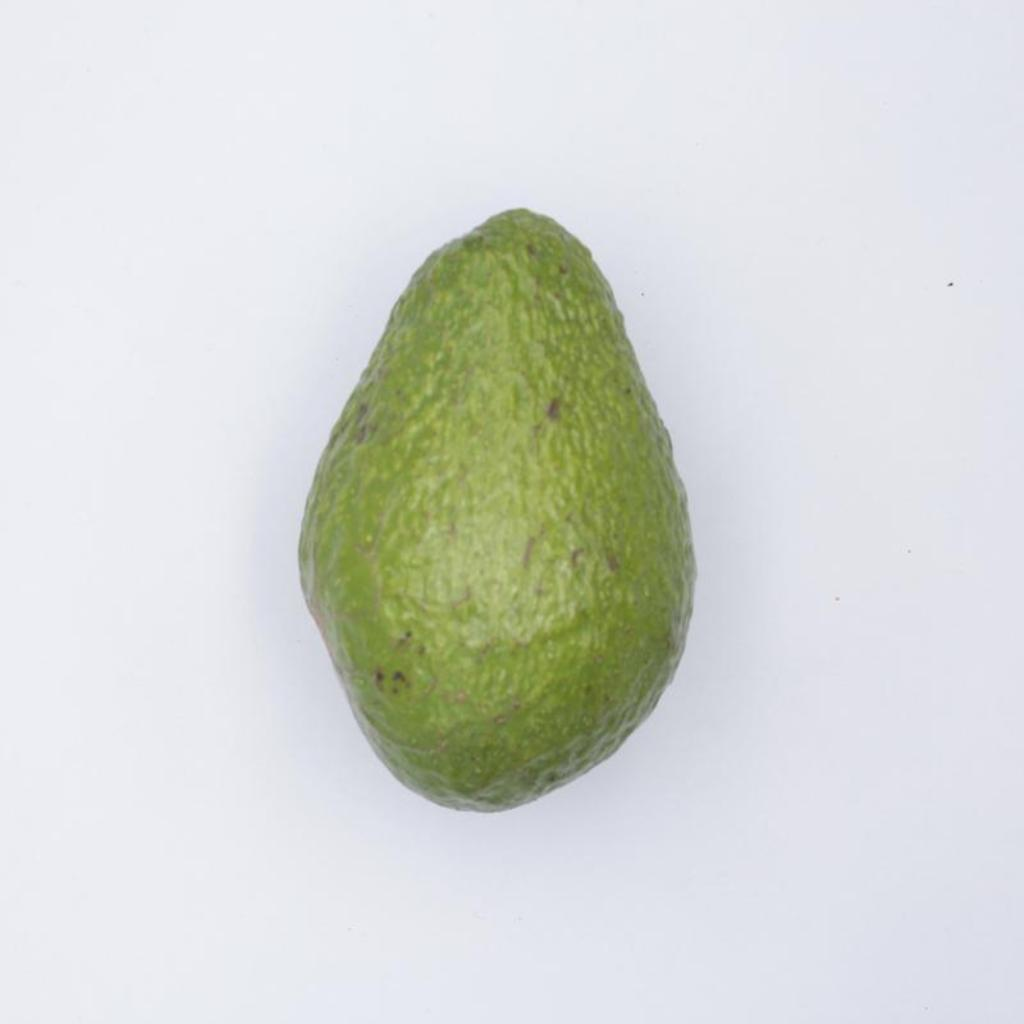fruto_sano: (298, 210, 694, 810)
